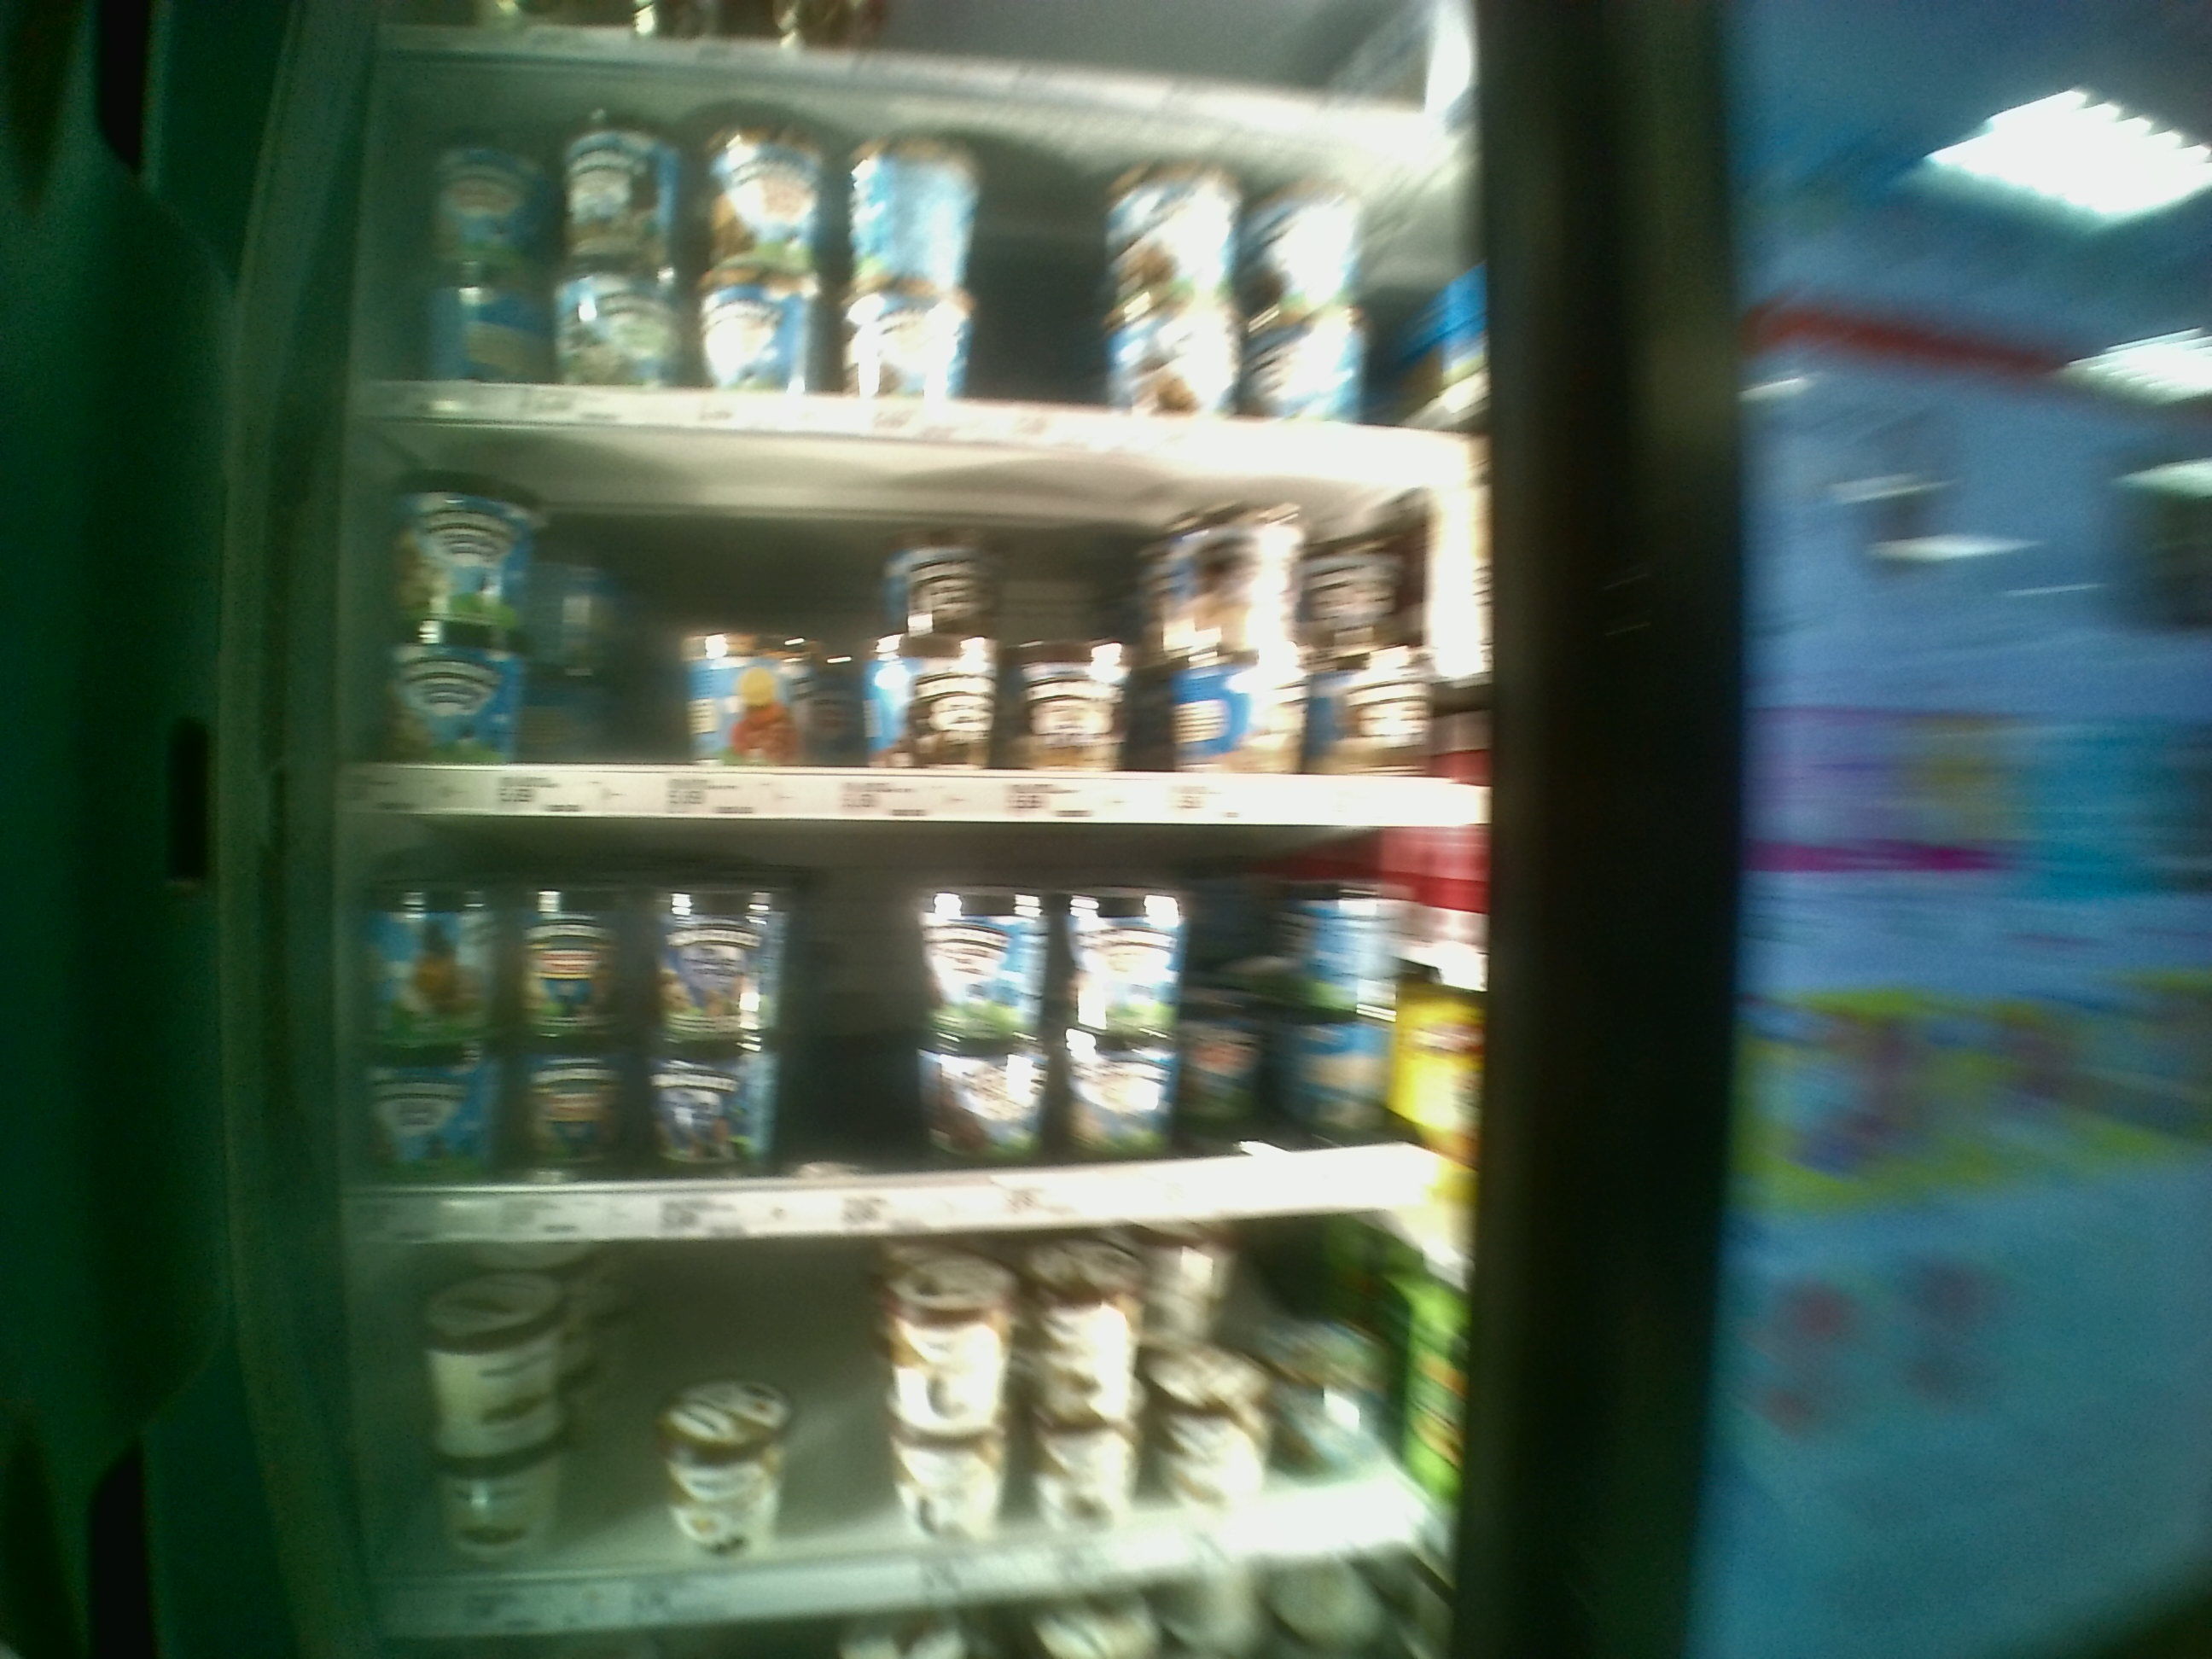shelf: (329, 814, 1529, 1229), (329, 420, 1498, 814)
